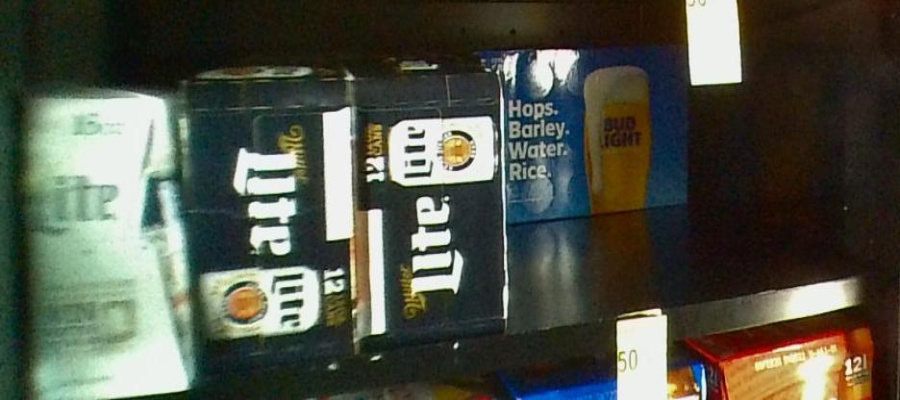bottle: (1, 82, 193, 395), (189, 74, 358, 369), (358, 50, 506, 342), (512, 49, 687, 213)
